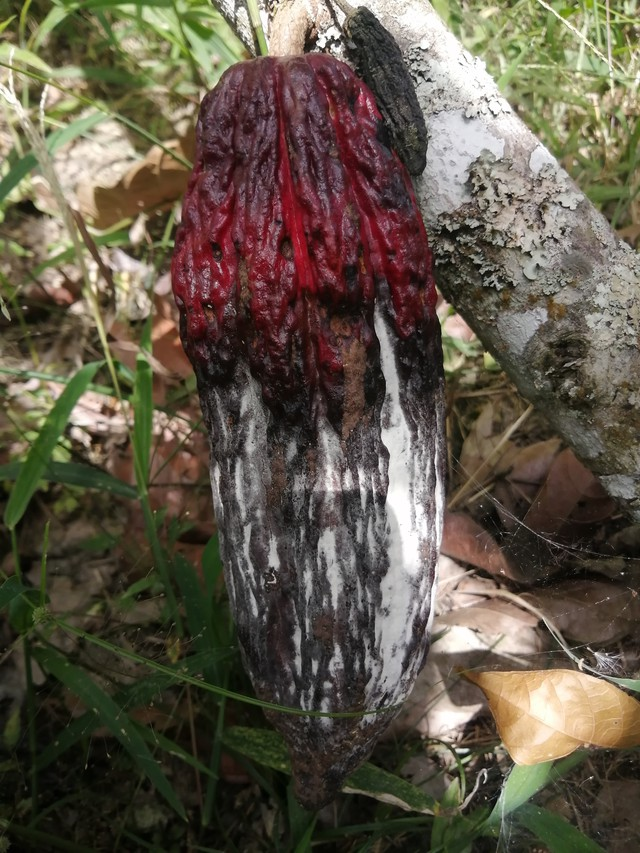moniliophthora roreri: (145, 41, 480, 820)
